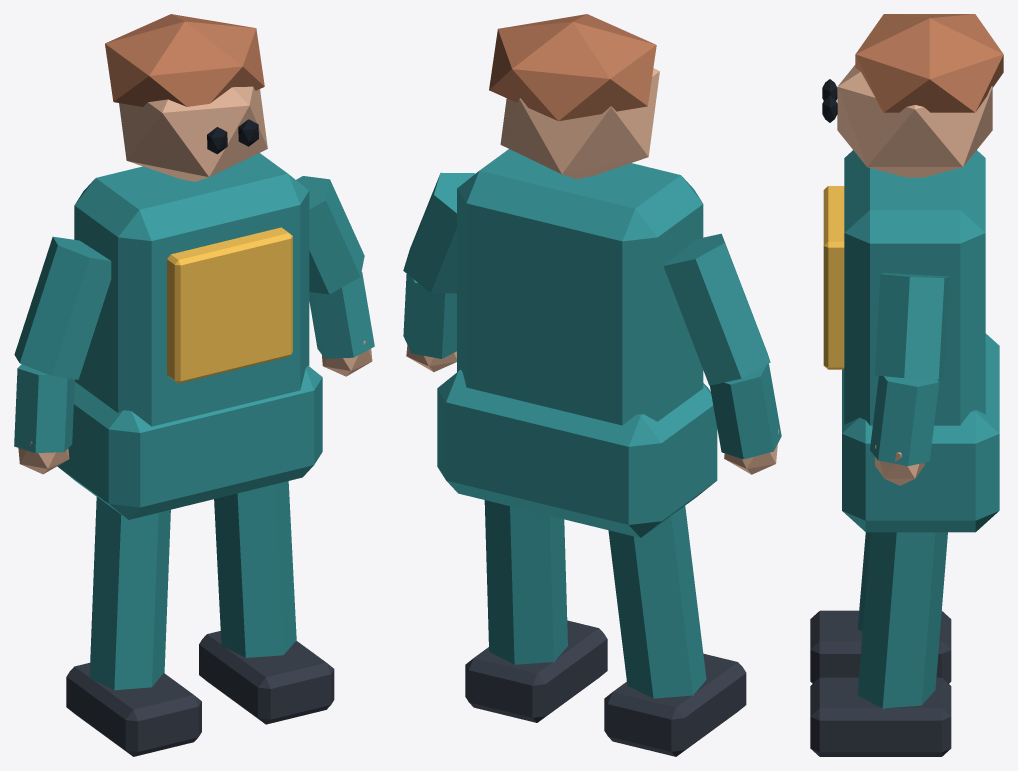
File: npcs_038_seed78877.glb
The picture shows the model from 3 angles, left to right: view 1: azimuth 30°, elevation 25°; view 2: azimuth 150°, elevation 25°; view 3: azimuth 270°, elevation 25°; orthographic projection. The views are drawn at different scales.
Parts seen in each view (by area): view 1: npcs_038_seed78877; view 2: npcs_038_seed78877; view 3: npcs_038_seed78877.
Part boxes in pixels (bbox=[...]): npcs_038_seed78877: bbox=[14, 14, 374, 756]; npcs_038_seed78877: bbox=[403, 14, 781, 756]; npcs_038_seed78877: bbox=[810, 14, 1003, 756].
Size of the model in its own units: 1.11 by 2.01 by 0.5089.
